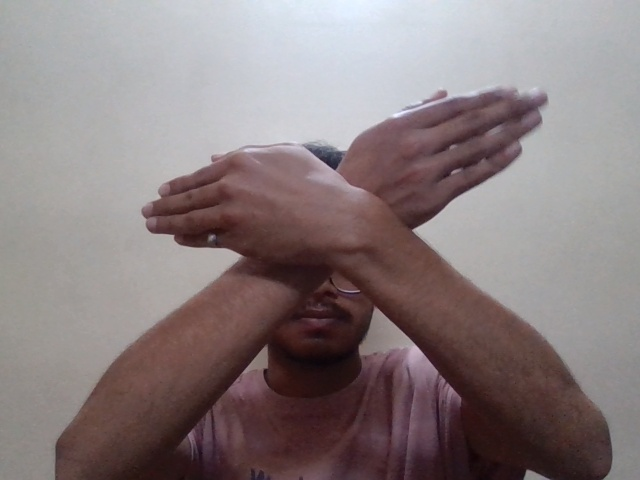feel: (116, 72, 615, 306)
